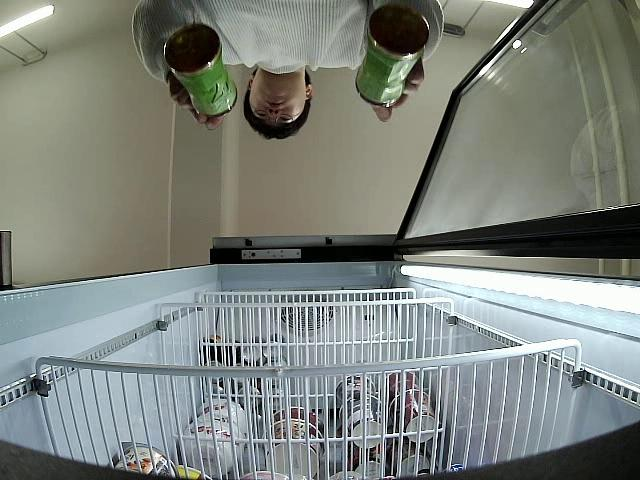00_hand: (371, 58, 424, 121)
19_17cha: (355, 4, 429, 106), (163, 23, 238, 121)
